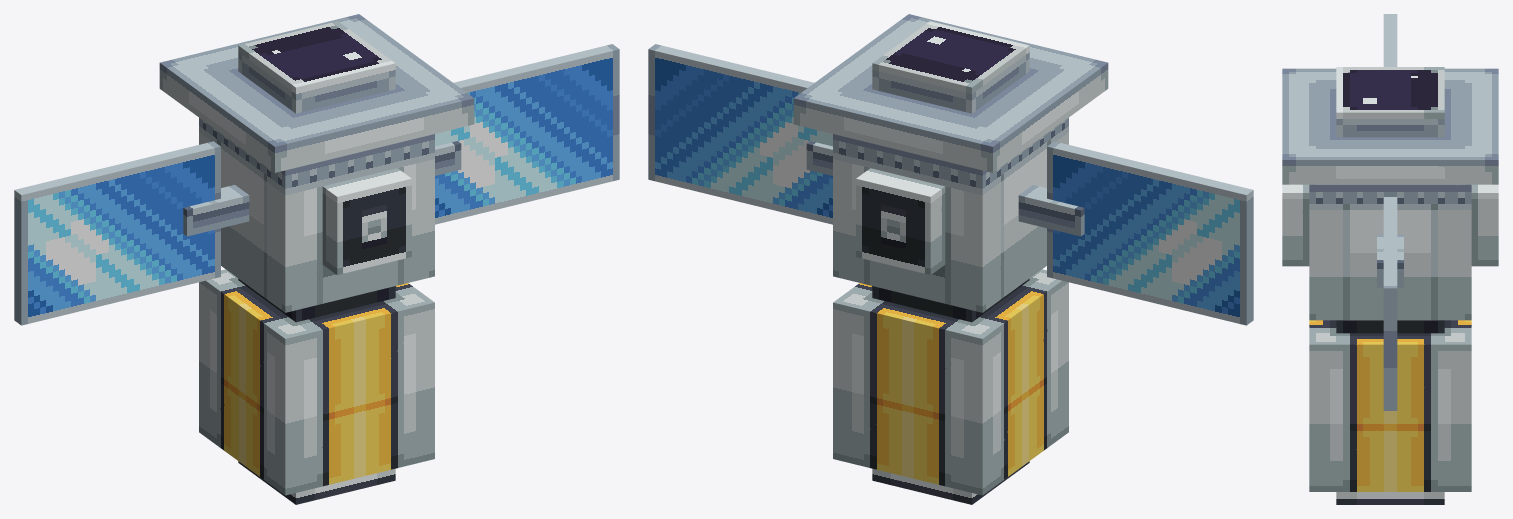
Rendered from satellite-small.gltf.
The picture shows the model from 3 angles, left to right: view 1: azimuth 30°, elevation 25°; view 2: azimuth 150°, elevation 25°; view 3: azimuth 270°, elevation 25°; orthographic projection. The views are drawn at different scales.
Parts seen in each view (by area): view 1: cube (×11); view 2: cube (×11); view 3: cube (×11).
Part boxes in pixels (left/top/right/bottom): cube (×11): left=14, top=14, right=619, bottom=504; cube (×11): left=648, top=14, right=1253, bottom=504; cube (×11): left=1282, top=14, right=1498, bottom=504.
Bounding box in the file's own units: 3 × 2 × 1.
Materials: 1 (1 with a texture image).
